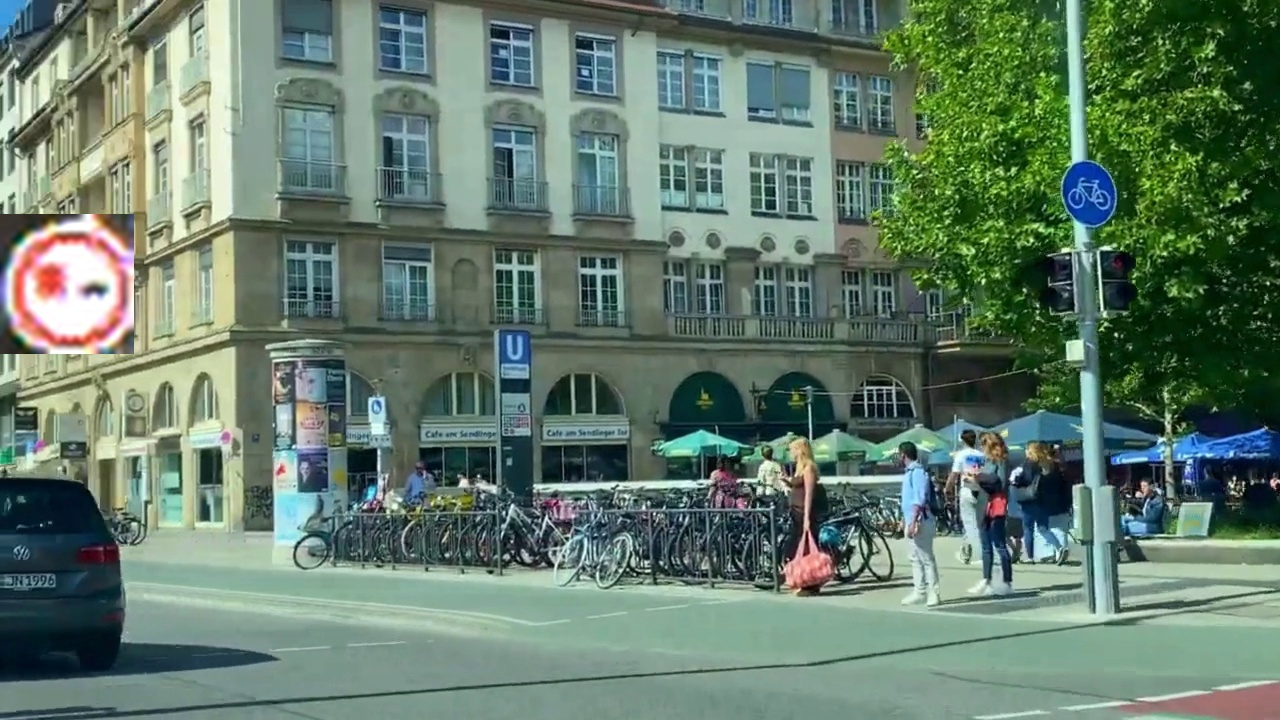No pass >3.5t: (0, 214, 134, 354)
